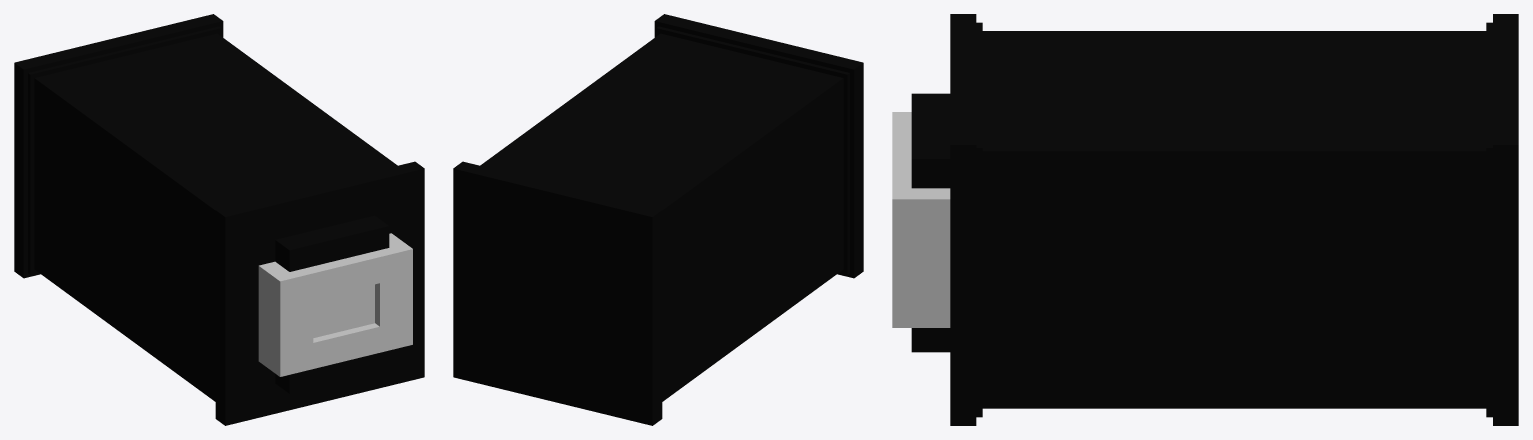
File: timerotor.obj
3 renders of one model, left to right at view 1: azimuth 30°, elevation 25°; view 2: azimuth 150°, elevation 25°; view 3: azimuth 270°, elevation 25°, orthographic. The views are drawn at different scales.
Parts seen in each view (by area): view 1: &DaytimeLight_FEFEFE_FFFFF_000, cube, apu; view 2: &DaytimeLight_FEFEFE_FFFFF_000, cube; view 3: &DaytimeLight_FEFEFE_FFFFF_000, cube, apu.
Boxes of the visible parts, box(x1,y1,x2,y2) form: &DaytimeLight_FEFEFE_FFFFF_000: box(34, 33, 397, 401); cube: box(14, 14, 424, 425); apu: box(258, 233, 412, 376); &DaytimeLight_FEFEFE_FFFFF_000: box(480, 33, 843, 401); cube: box(453, 14, 863, 425); &DaytimeLight_FEFEFE_FFFFF_000: box(982, 31, 1486, 408); cube: box(911, 14, 1518, 425); apu: box(892, 112, 950, 327).
Bounding box in the file's own units: 0.4093 × 0.4093 × 0.8271.
